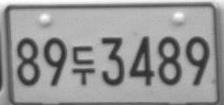3: (100, 35, 125, 86)
4: (128, 35, 156, 86)
8: (156, 35, 183, 86), (16, 36, 41, 87)
9: (184, 35, 210, 86), (43, 36, 68, 86)
두: (71, 45, 96, 86)
